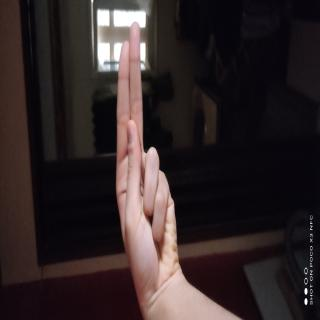AYN: (0, 248, 138, 320)
